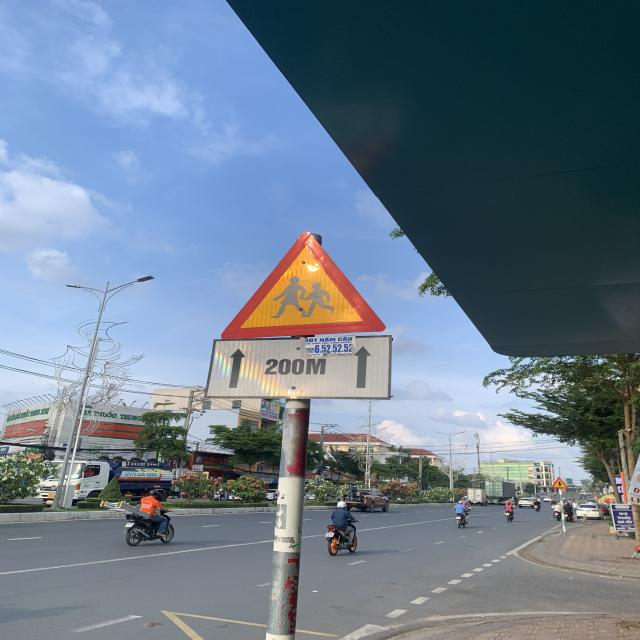Vong_Xuyen: (219, 231, 390, 339)
